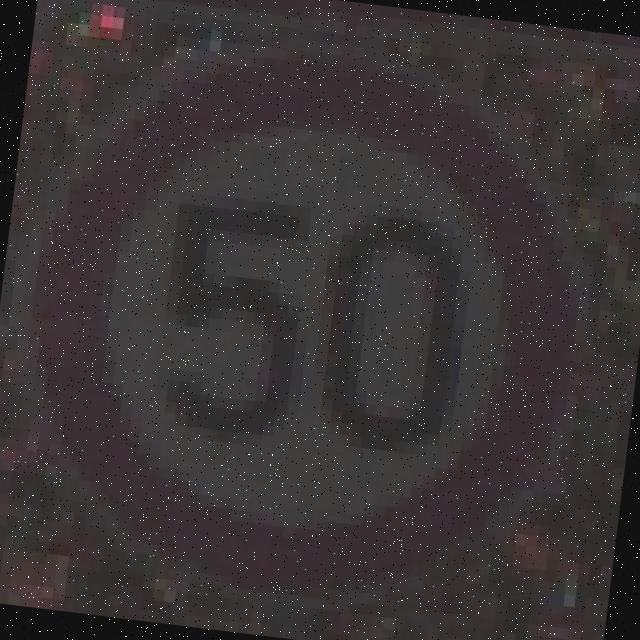Ograniczenie predkosci do 50: (19, 23, 596, 623)
